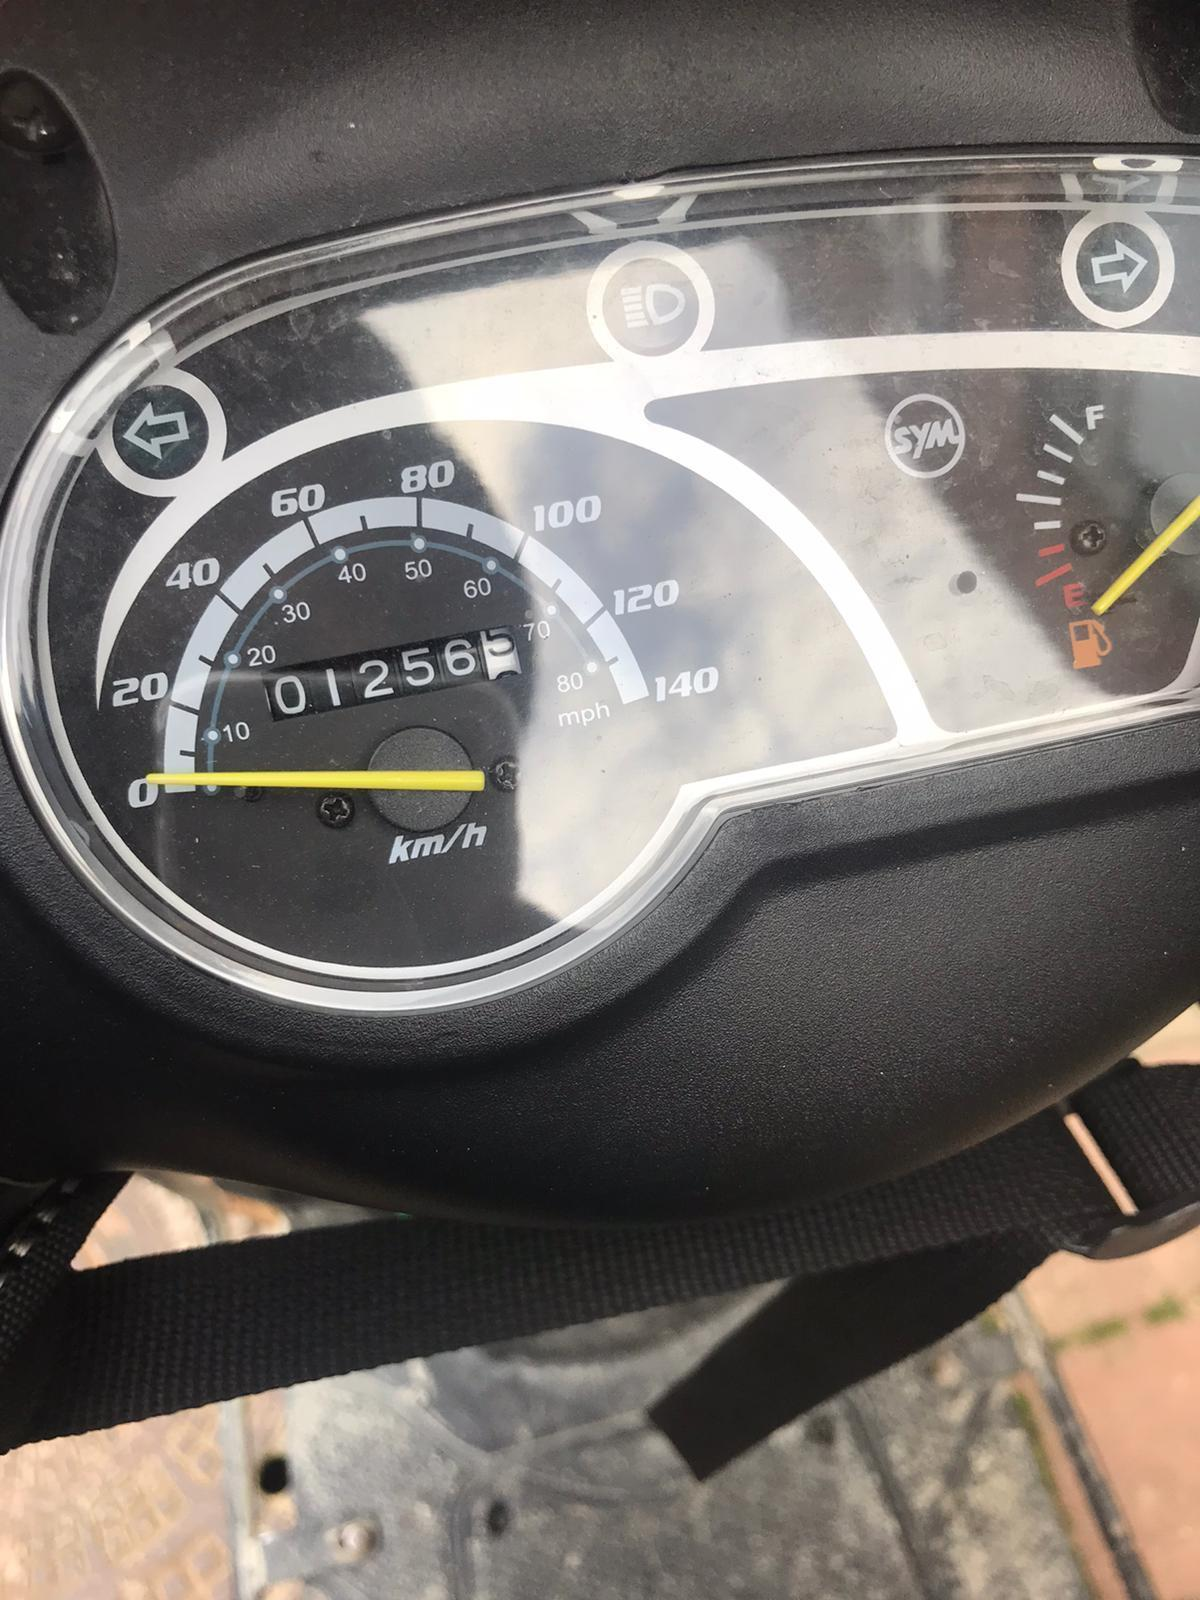0: (271, 671, 310, 716), (261, 643, 277, 665)
1: (321, 666, 347, 709)
2: (355, 656, 396, 700)
5: (400, 645, 436, 688), (483, 621, 517, 658)
6: (442, 636, 479, 678)
odometer: (258, 619, 527, 724)
